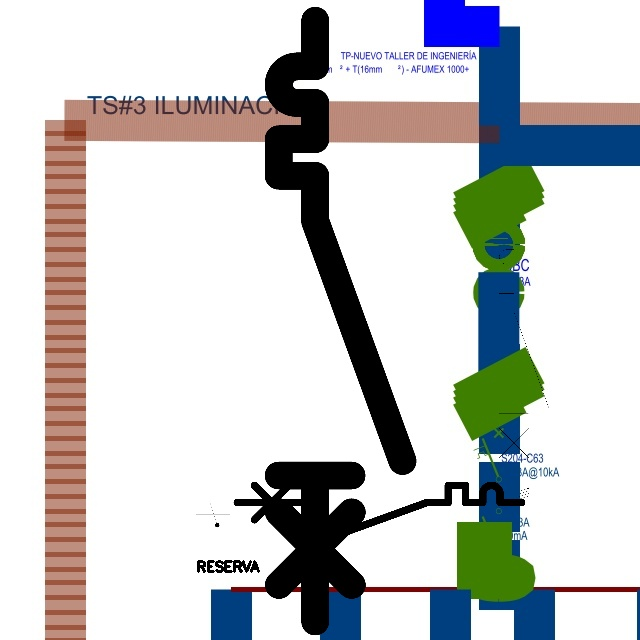interruptor_termomagnetico: (263, 5, 417, 637), (229, 478, 528, 551), (493, 225, 555, 478)
